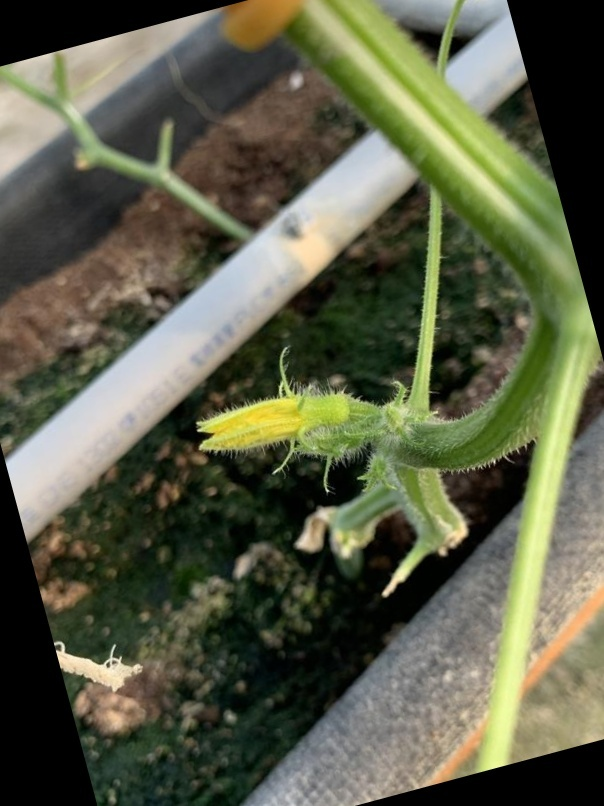bud: (196, 389, 379, 473)
